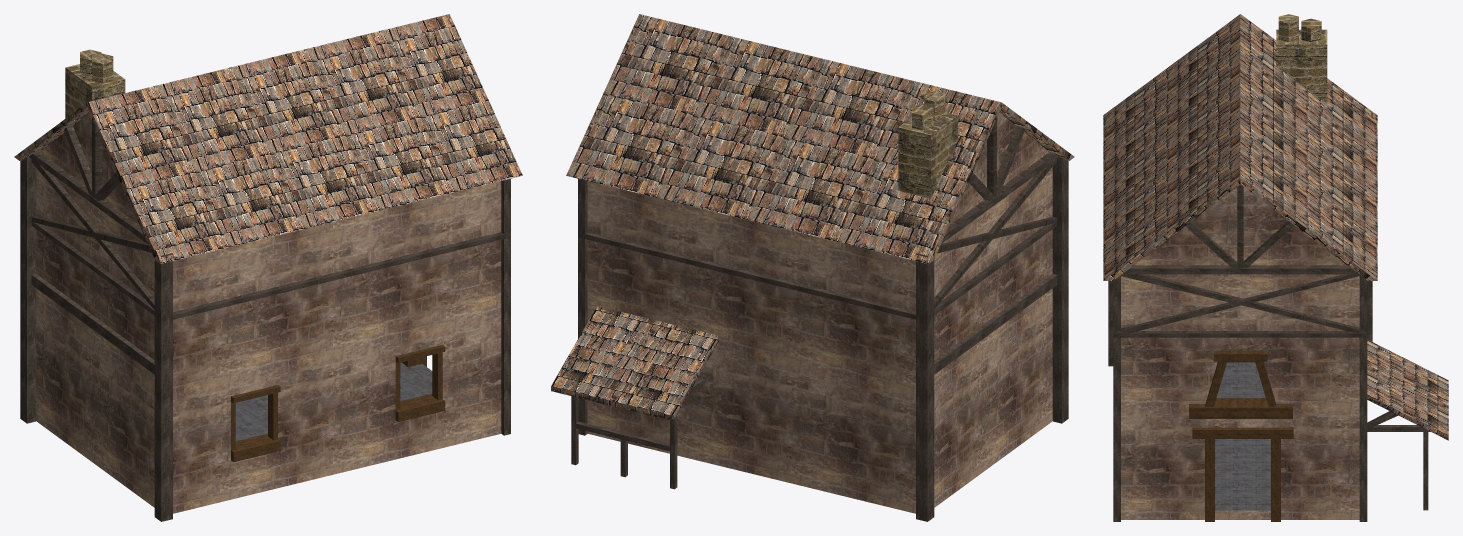
Rendered from shops_shoplrg1.glb.
The picture shows the model from 3 angles, left to right: view 1: azimuth 30°, elevation 25°; view 2: azimuth 150°, elevation 25°; view 3: azimuth 270°, elevation 25°; orthographic projection. The views are drawn at different scales.
Visible parts, largest first — view 1: shoplrg1; view 2: shoplrg1; view 3: shoplrg1.
Part boxes in pixels (left/top/right/bottom): shoplrg1: left=14, top=14, right=522, bottom=521; shoplrg1: left=551, top=14, right=1074, bottom=521; shoplrg1: left=1103, top=14, right=1448, bottom=521.
Bounding box in the file's own units: 19.28 × 19.5 × 17.
Materials: 6 (6 with a texture image).
